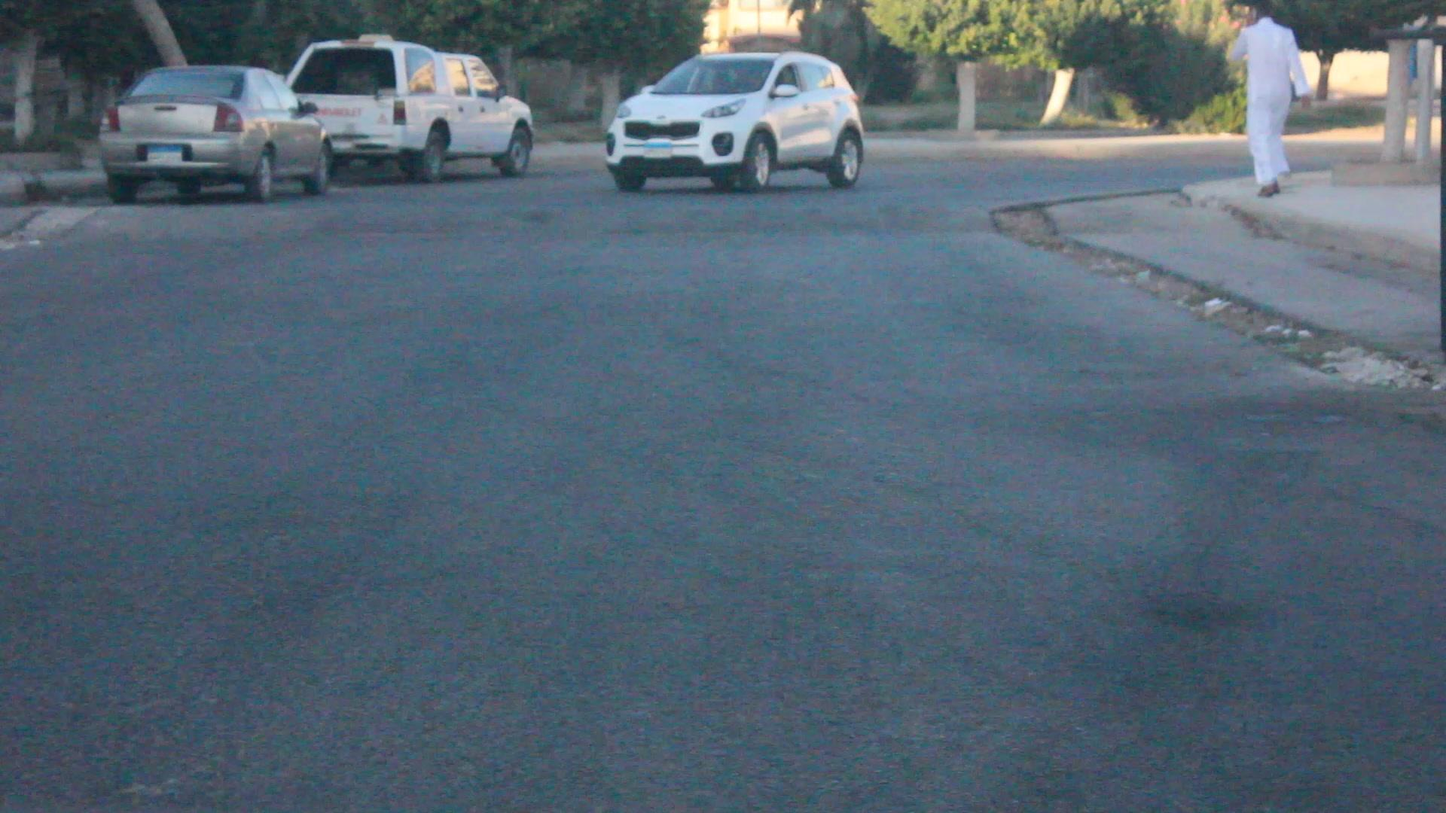Bump: (8, 192, 992, 238)
